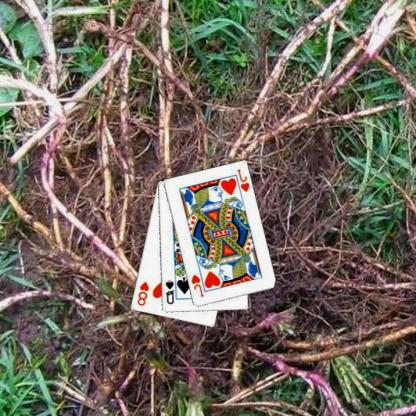8H: (136, 279, 152, 307)
JH: (190, 272, 206, 298), (237, 167, 252, 193)
QS: (164, 278, 176, 306)
